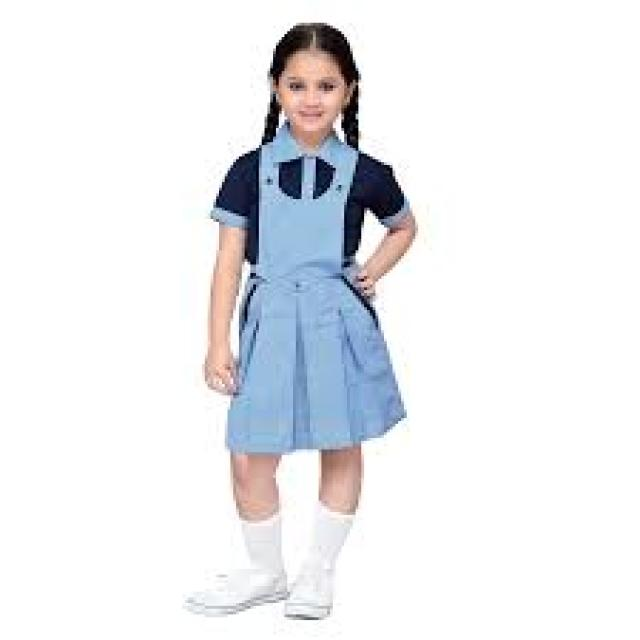child: (176, 8, 427, 626)
